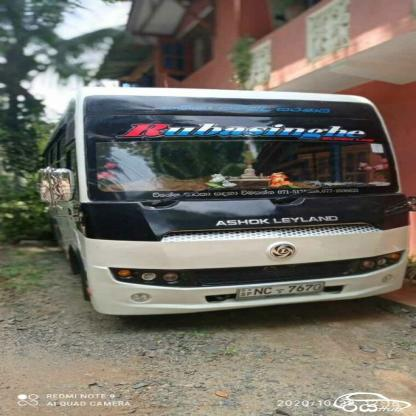bus front: (30, 85, 416, 332)
number plate: (235, 282, 324, 298)
